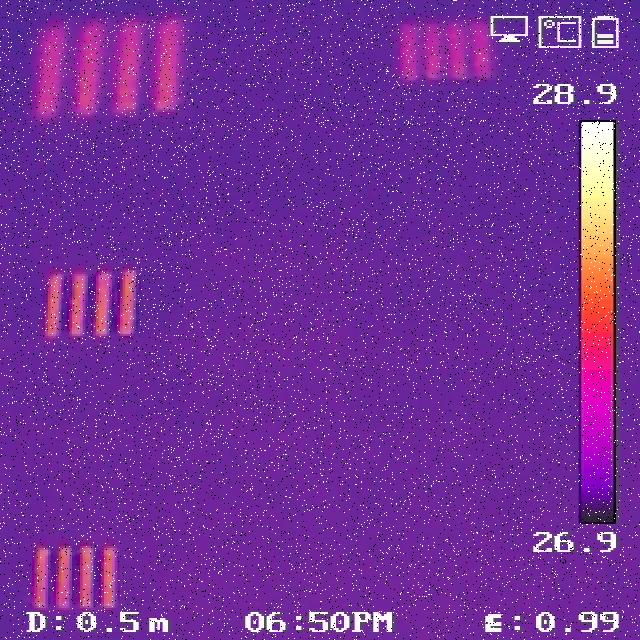Distinguishable 4-bar target: (32, 14, 181, 117), (39, 268, 144, 341), (395, 17, 500, 82), (28, 540, 128, 608)
